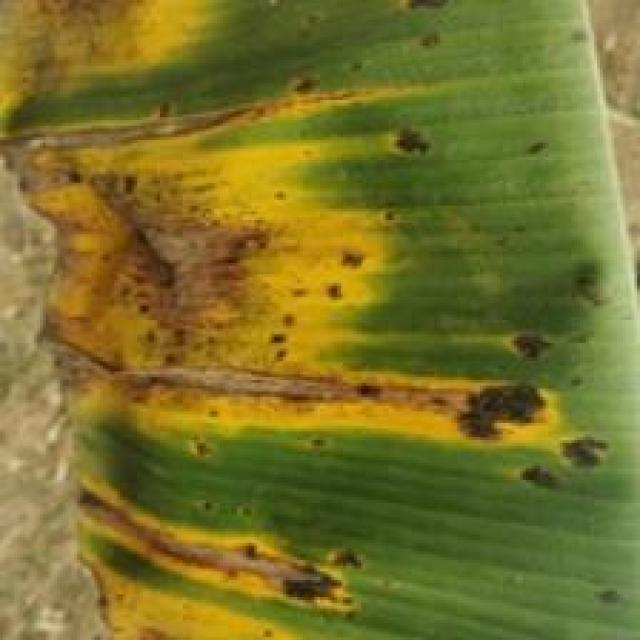Downey_mildrew: (14, 183, 637, 640), (0, 0, 588, 191)
